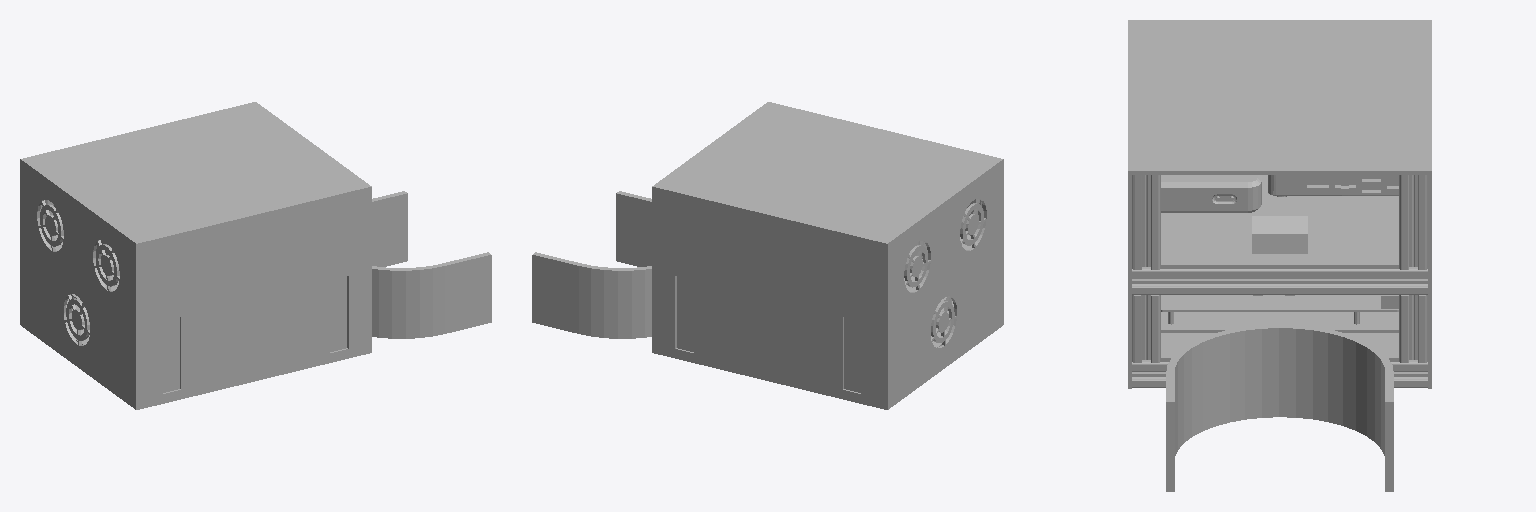
The robot description file, URDF, robot "05142":
<?xml version="1.0" encoding="utf-8"?>
<!-- This URDF was automatically created by SolidWorks to URDF Exporter! Originally created by [author] ([email redacted]) 
     Commit Version: 1.5.1-0-g916b5db  Build Version: 1.5.7152.31018
     For more information, please see http://wiki.ros.org/sw_urdf_exporter -->
<robot
  name="05142">
  <link
    name="Base">
    <inertial>
      <origin
        xyz="-0.142308649748856 0.108885138072371 0.0815546104061537"
        rpy="0 0 0" />
      <mass
        value="5.32485368404388" />
      <inertia
        ixx="0.0149047739356473"
        ixy="-1.47975231730013E-06"
        ixz="-7.80337094215938E-06"
        iyy="0.0219378727246538"
        iyz="-4.01751589933999E-06"
        izz="0.0232030208257596" />
    </inertial>
    <visual>
      <origin
        xyz="0 0 0"
        rpy="0 0 0" />
      <geometry>
        <mesh
          filename="package://05142/meshes/Base.STL" />
      </geometry>
      <material
        name="">
        <color
          rgba="0.752941176470588 0.752941176470588 0.752941176470588 1" />
      </material>
    </visual>
    <collision>
      <origin
        xyz="0 0 0"
        rpy="0 0 0" />
      <geometry>
        <mesh
          filename="package://05142/meshes/Base.STL" />
      </geometry>
    </collision>
  </link>
  <link
    name="LFS">
    <inertial>
      <origin
        xyz="0.0666875210853829 0.00348950989660707 -0.0643544912998068"
        rpy="0 0 0" />
      <mass
        value="0.26437001106022" />
      <inertia
        ixx="3.20746276473044E-05"
        ixy="-1.44118283518155E-07"
        ixz="-6.30853084354406E-08"
        iyy="6.22704126338821E-05"
        iyz="-2.01894652761254E-07"
        izz="6.28519936953906E-05" />
    </inertial>
    <visual>
      <origin
        xyz="0 0 0"
        rpy="0 0 0" />
      <geometry>
        <mesh
          filename="package://05142/meshes/LFS.STL" />
      </geometry>
      <material
        name="">
        <color
          rgba="0.752941176470588 0.752941176470588 0.752941176470588 1" />
      </material>
    </visual>
    <collision>
      <origin
        xyz="0 0 0"
        rpy="0 0 0" />
      <geometry>
        <mesh
          filename="package://05142/meshes/LFS.STL" />
      </geometry>
    </collision>
  </link>
  <joint
    name="LFS"
    type="prismatic">
    <origin
      xyz="-0.050812 0.31516 -0.046701"
      rpy="2.834 0 -1.5708" />
    <parent
      link="Base" />
    <child
      link="LFS" />
    <axis
      xyz="0 0.3028 -0.95305" />
    <limit
      lower="0"
      upper="0"
      effort="0"
      velocity="0" />
  </joint>
  <link
    name="LFW">
    <inertial>
      <origin
        xyz="-0.012315724574073 0 0"
        rpy="0 0 0" />
      <mass
        value="0.193585420779862" />
      <inertia
        ixx="0.000253081141332254"
        ixy="-5.88092833198904E-37"
        ixz="5.1845054750851E-21"
        iyy="0.000136818598566517"
        iyz="7.17557753438369E-37"
        izz="0.000136818598566517" />
    </inertial>
    <visual>
      <origin
        xyz="0 0 0"
        rpy="0 0 0" />
      <geometry>
        <mesh
          filename="package://05142/meshes/LFW.STL" />
      </geometry>
      <material
        name="">
        <color
          rgba="1 1 1 1" />
      </material>
    </visual>
    <collision>
      <origin
        xyz="0 0 0"
        rpy="0 0 0" />
      <geometry>
        <mesh
          filename="package://05142/meshes/LFW.STL" />
      </geometry>
    </collision>
  </link>
  <joint
    name="LFW"
    type="continuous">
    <origin
      xyz="0.00041099 -0.018372 -0.039304"
      rpy="-1.8707 0 3.1416" />
    <parent
      link="LFS" />
    <child
      link="LFW" />
    <axis
      xyz="1 0 0" />
    <limit
      effort="3.1"
      velocity="7" />
  </joint>
  <link
    name="RFS">
    <inertial>
      <origin
        xyz="0.0724473276378515 -0.00248083053559423 -0.0665731861852051"
        rpy="0 0 0" />
      <mass
        value="0.264370011060221" />
      <inertia
        ixx="3.20746276473045E-05"
        ixy="1.44118283518171E-07"
        ixz="6.30853084354422E-08"
        iyy="6.22704126338823E-05"
        iyz="-2.01894652761264E-07"
        izz="6.28519936953909E-05" />
    </inertial>
    <visual>
      <origin
        xyz="0 0 0"
        rpy="0 0 0" />
      <geometry>
        <mesh
          filename="package://05142/meshes/RFS.STL" />
      </geometry>
      <material
        name="">
        <color
          rgba="0.752941176470588 0.752941176470588 0.752941176470588 1" />
      </material>
    </visual>
    <collision>
      <origin
        xyz="0 0 0"
        rpy="0 0 0" />
      <geometry>
        <mesh
          filename="package://05142/meshes/RFS.STL" />
      </geometry>
    </collision>
  </link>
  <joint
    name="RFS"
    type="prismatic">
    <origin
      xyz="-0.012128 -0.10492 -0.047016"
      rpy="2.834 0 1.5708" />
    <parent
      link="Base" />
    <child
      link="RFS" />
    <axis
      xyz="0 0.3028 -0.95305" />
    <limit
      lower="0"
      upper="0"
      effort="0"
      velocity="0" />
  </joint>
  <link
    name="RFW">
    <inertial>
      <origin
        xyz="-0.0123157245740731 0 1.38777878078145E-17"
        rpy="0 0 0" />
      <mass
        value="0.193585420779862" />
      <inertia
        ixx="0.000253081141332254"
        ixy="-1.23497249055924E-21"
        ixz="2.07163812308337E-21"
        iyy="0.000136818598566517"
        iyz="-3.3881317890172E-21"
        izz="0.000136818598566517" />
    </inertial>
    <visual>
      <origin
        xyz="0 0 0"
        rpy="0 0 0" />
      <geometry>
        <mesh
          filename="package://05142/meshes/RFW.STL" />
      </geometry>
      <material
        name="">
        <color
          rgba="1 1 1 1" />
      </material>
    </visual>
    <collision>
      <origin
        xyz="0 0 0"
        rpy="0 0 0" />
      <geometry>
        <mesh
          filename="package://05142/meshes/RFW.STL" />
      </geometry>
    </collision>
  </link>
  <joint
    name="RFW"
    type="continuous">
    <origin
      xyz="0.0061708 0.00091629 -0.033508"
      rpy="-0.70714 0 3.1416" />
    <parent
      link="RFS" />
    <child
      link="RFW" />
    <axis
      xyz="1 0 0" />
    <limit
      effort="3.1"
      velocity="7" />
  </joint>
  <link
    name="LBS">
    <inertial>
      <origin
        xyz="0.0754022136877308 -0.00959516940601612 -0.0220143953841323"
        rpy="0 0 0" />
      <mass
        value="0.197009126147877" />
      <inertia
        ixx="1.68802738687173E-05"
        ixy="-1.14118964784893E-21"
        ixz="2.10921100717931E-20"
        iyy="5.0218488566757E-05"
        iyz="1.0508875929185E-06"
        izz="4.72447473350487E-05" />
    </inertial>
    <visual>
      <origin
        xyz="0 0 0"
        rpy="0 0 0" />
      <geometry>
        <mesh
          filename="package://05142/meshes/LBS.STL" />
      </geometry>
      <material
        name="">
        <color
          rgba="0.752941176470588 0.752941176470588 0.752941176470588 1" />
      </material>
    </visual>
    <collision>
      <origin
        xyz="0 0 0"
        rpy="0 0 0" />
      <geometry>
        <mesh
          filename="package://05142/meshes/LBS.STL" />
      </geometry>
    </collision>
  </link>
  <joint
    name="LBS"
    type="prismatic">
    <origin
      xyz="-0.23081 0.31516 0.0044202"
      rpy="2.834 0 -1.5708" />
    <parent
      link="Base" />
    <child
      link="LBS" />
    <axis
      xyz="0 0.3028 -0.95305" />
    <limit
      lower="0"
      upper="0"
      effort="0"
      velocity="0" />
  </joint>
  <link
    name="LBC">
    <inertial>
      <origin
        xyz="0.000464526735875104 -0.0102558391455497 0"
        rpy="0 0 0" />
      <mass
        value="0.043396245960262" />
      <inertia
        ixx="2.1180042472488E-05"
        ixy="5.53822046363834E-07"
        ixz="1.7205356741103E-22"
        iyy="1.76453344713605E-06"
        iyz="-2.20245109898369E-20"
        izz="2.14947085785555E-05" />
    </inertial>
    <visual>
      <origin
        xyz="0 0 0"
        rpy="0 0 0" />
      <geometry>
        <mesh
          filename="package://05142/meshes/LBC.STL" />
      </geometry>
      <material
        name="">
        <color
          rgba="0.898039215686275 0.917647058823529 0.929411764705882 1" />
      </material>
    </visual>
    <collision>
      <origin
        xyz="0 0 0"
        rpy="0 0 0" />
      <geometry>
        <mesh
          filename="package://05142/meshes/LBC.STL" />
      </geometry>
    </collision>
  </link>
  <joint
    name="LBC"
    type="continuous">
    <origin
      xyz="0.041161 -0.015068 -0.0047875"
      rpy="-1.8784 -0.0013926 3.1372" />
    <parent
      link="LBS" />
    <child
      link="LBC" />
    <axis
      xyz="0 1 0" />
  </joint>
  <link
    name="LBW">
    <inertial>
      <origin
        xyz="0.00647268691618069 1.38777878078145E-17 2.77555756156289E-17"
        rpy="0 0 0" />
      <mass
        value="0.0368891747697499" />
      <inertia
        ixx="1.67269024516251E-05"
        ixy="1.7292210705421E-21"
        ixz="-4.76786905075565E-21"
        iyy="8.8792623904253E-06"
        iyz="2.11758236813575E-22"
        izz="8.8792623904253E-06" />
    </inertial>
    <visual>
      <origin
        xyz="0 0 0"
        rpy="0 0 0" />
      <geometry>
        <mesh
          filename="package://05142/meshes/LBW.STL" />
      </geometry>
      <material
        name="">
        <color
          rgba="1 1 1 1" />
      </material>
    </visual>
    <collision>
      <origin
        xyz="0 0 0"
        rpy="0 0 0" />
      <geometry>
        <mesh
          filename="package://05142/meshes/LBW.STL" />
      </geometry>
    </collision>
  </link>
  <joint
    name="LBW"
    type="continuous">
    <origin
      xyz="0.0095006 -0.037729 0"
      rpy="-2.9585 0 0" />
    <parent
      link="LBC" />
    <child
      link="LBW" />
    <axis
      xyz="1 0 0" />
    <limit
      effort="3.1"
      velocity="7" />
  </joint>
  <link
    name="RBS">
    <inertial>
      <origin
        xyz="0.0754022136877308 -0.00955739367510411 -0.0221332929503895"
        rpy="0 0 0" />
      <mass
        value="0.197009126147877" />
      <inertia
        ixx="1.68802738687173E-05"
        ixy="-2.46058950979443E-21"
        ixz="6.53439757708556E-22"
        iyy="5.0218488566757E-05"
        iyz="1.05088759291849E-06"
        izz="4.72447473350487E-05" />
    </inertial>
    <visual>
      <origin
        xyz="0 0 0"
        rpy="0 0 0" />
      <geometry>
        <mesh
          filename="package://05142/meshes/RBS.STL" />
      </geometry>
      <material
        name="">
        <color
          rgba="0.752941176470588 0.752941176470588 0.752941176470588 1" />
      </material>
    </visual>
    <collision>
      <origin
        xyz="0 0 0"
        rpy="0 0 0" />
      <geometry>
        <mesh
          filename="package://05142/meshes/RBS.STL" />
      </geometry>
    </collision>
  </link>
  <joint
    name="RBS"
    type="prismatic">
    <origin
      xyz="-0.19919 -0.099161 0.0042954"
      rpy="2.834 0 1.5708" />
    <parent
      link="Base" />
    <child
      link="RBS" />
    <axis
      xyz="0 0.3028 -0.95305" />
    <limit
      lower="0"
      upper="0"
      effort="0"
      velocity="0" />
  </joint>
  <link
    name="RBC">
    <inertial>
      <origin
        xyz="0.000464526735875048 -0.0101310848385787 2.77555756156289E-17"
        rpy="0 0 0" />
      <mass
        value="0.0433962459602619" />
      <inertia
        ixx="2.11800424724879E-05"
        ixy="5.53822046363849E-07"
        ixz="-4.45053765294178E-22"
        iyy="1.76453344713605E-06"
        iyz="2.09723372506695E-20"
        izz="2.14947085785555E-05" />
    </inertial>
    <visual>
      <origin
        xyz="0 0 0"
        rpy="0 0 0" />
      <geometry>
        <mesh
          filename="package://05142/meshes/RBC.STL" />
      </geometry>
      <material
        name="">
        <color
          rgba="0.898039215686275 0.917647058823529 0.929411764705882 1" />
      </material>
    </visual>
    <collision>
      <origin
        xyz="0 0 0"
        rpy="0 0 0" />
      <geometry>
        <mesh
          filename="package://05142/meshes/RBC.STL" />
      </geometry>
    </collision>
  </link>
  <joint
    name="RBC"
    type="continuous">
    <origin
      xyz="0.041161 -0.015068 -0.0047875"
      rpy="-1.8784 0 3.1416" />
    <parent
      link="RBS" />
    <child
      link="RBC" />
    <axis
      xyz="0 1 0" />
  </joint>
  <link
    name="RBW">
    <inertial>
      <origin
        xyz="0.00647333333471939 -2.77555756156289E-17 1.38777878078145E-17"
        rpy="0 0 0" />
      <mass
        value="0.0368891747697499" />
      <inertia
        ixx="1.67269024516251E-05"
        ixy="-2.22678152353162E-21"
        ixz="-4.57890503447017E-22"
        iyy="8.87926239042531E-06"
        iyz="0"
        izz="8.8792623904253E-06" />
    </inertial>
    <visual>
      <origin
        xyz="0 0 0"
        rpy="0 0 0" />
      <geometry>
        <mesh
          filename="package://05142/meshes/RBW.STL" />
      </geometry>
      <material
        name="">
        <color
          rgba="1 1 1 1" />
      </material>
    </visual>
    <collision>
      <origin
        xyz="0 0 0"
        rpy="0 0 0" />
      <geometry>
        <mesh
          filename="package://05142/meshes/RBW.STL" />
      </geometry>
    </collision>
  </link>
  <joint
    name="RBW"
    type="continuous">
    <origin
      xyz="0.0095 -0.037604 0"
      rpy="0.98365 0 0" />
    <parent
      link="RBC" />
    <child
      link="RBW" />
    <axis
      xyz="1 0 0" />
    <limit
      effort="3.1"
      velocity="7" />
  </joint>
  <link
    name="Lidar">
    <inertial>
      <origin
        xyz="-0.0784930236709999 0.744427434110643 0.133449662207093"
        rpy="0 0 0" />
      <mass
        value="0.0730845741777529" />
      <inertia
        ixx="1.95808760791821E-05"
        ixy="-4.28391161365721E-07"
        ixz="1.0393362167913E-07"
        iyy="4.14184522470007E-05"
        iyz="-9.42743708958917E-09"
        izz="2.41250083305657E-05" />
    </inertial>
    <visual>
      <origin
        xyz="0 0 0"
        rpy="0 0 0" />
      <geometry>
        <mesh
          filename="package://05142/meshes/Lidar.STL" />
      </geometry>
      <material
        name="">
        <color
          rgba="0.792156862745098 0.819607843137255 0.933333333333333 1" />
      </material>
    </visual>
    <collision>
      <origin
        xyz="0 0 0"
        rpy="0 0 0" />
      <geometry>
        <mesh
          filename="package://05142/meshes/Lidar.STL" />
      </geometry>
    </collision>
  </link>
  <joint
    name="Lidar"
    type="fixed">
    <origin
      xyz="-0.098561 0.24092 -0.5487"
      rpy="1.5708 0 0" />
    <parent
      link="Base" />
    <child
      link="Lidar" />
    <axis
      xyz="0 0 0" />
  </joint>
  <link
    name="Front_Cam">
    <inertial>
      <origin
        xyz="0.0498359970771496 0.061783635914709 0.0687226592339399"
        rpy="0 0 0" />
      <mass
        value="0.0436119948521297" />
      <inertia
        ixx="4.2947913749771E-06"
        ixy="-8.85886294505241E-10"
        ixz="-1.01812872210193E-09"
        iyy="2.21058139310684E-05"
        iyz="2.17578140553956E-08"
        izz="2.35707056576044E-05" />
    </inertial>
    <visual>
      <origin
        xyz="0 0 0"
        rpy="0 0 0" />
      <geometry>
        <mesh
          filename="package://05142/meshes/Front_Cam.STL" />
      </geometry>
      <material
        name="">
        <color
          rgba="0.792156862745098 0.819607843137255 0.933333333333333 1" />
      </material>
    </visual>
    <collision>
      <origin
        xyz="0 0 0"
        rpy="0 0 0" />
      <geometry>
        <mesh
          filename="package://05142/meshes/Front_Cam.STL" />
      </geometry>
    </collision>
  </link>
  <joint
    name="Front_Cam"
    type="fixed">
    <origin
      xyz="-0.080278 0.058161 0.092502"
      rpy="1.5708 0 1.5708" />
    <parent
      link="Base" />
    <child
      link="Front_Cam" />
    <axis
      xyz="0 0 0" />
  </joint>
  <link
    name="Ball_cam">
    <inertial>
      <origin
        xyz="0.0498359969056811 0.0617836349793439 0.0687226595626681"
        rpy="0 0 0" />
      <mass
        value="0.0436119951735672" />
      <inertia
        ixx="4.29479052042007E-06"
        ixy="-8.85250523844603E-10"
        ixz="-1.01843894209817E-09"
        iyy="2.21058148306726E-05"
        iyz="2.17581061750493E-08"
        izz="2.35707057120252E-05" />
    </inertial>
    <visual>
      <origin
        xyz="0 0 0"
        rpy="0 0 0" />
      <geometry>
        <mesh
          filename="package://05142/meshes/Ball_cam.STL" />
      </geometry>
      <material
        name="">
        <color
          rgba="0.792156862745098 0.819607843137255 0.933333333333333 1" />
      </material>
    </visual>
    <collision>
      <origin
        xyz="0 0 0"
        rpy="0 0 0" />
      <geometry>
        <mesh
          filename="package://05142/meshes/Ball_cam.STL" />
      </geometry>
    </collision>
  </link>
  <joint
    name="Ball_cam"
    type="fixed">
    <origin
      xyz="-0.10169 0.057993 0.10584"
      rpy="2.2021 0 1.5708" />
    <parent
      link="Base" />
    <child
      link="Ball_cam" />
    <axis
      xyz="0 0 0" />
  </joint>
</robot>

--- Render facts (derived) ---
The picture shows the robot from 3 angles, left to right: view 1: azimuth 30°, elevation 25°; view 2: azimuth 150°, elevation 25°; view 3: azimuth 270°, elevation 25°; orthographic projection.
Robot: 05142 — 14 links, 13 joints (6 continuous, 4 prismatic, 3 fixed); root link Base; default pose: all joints at 0.
Links seen in each view (by area): view 1: Base; view 2: Base; view 3: Base.
Link boxes in pixels (box(x1,y1,x2,y2)): Base: box(20, 102, 491, 409); Base: box(532, 102, 1003, 409); Base: box(1128, 20, 1431, 491).
Bounding box of the posed robot: 0.3973 × 0.216 × 0.1845 m (x, y, z).
1 mesh visuals loaded from 14 distinct referenced files (1 binary STL); not drawn: 13 (reference not matched to a file when rendering).